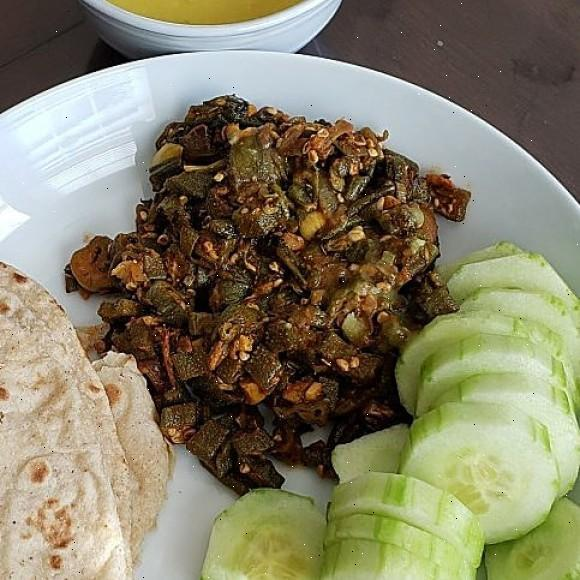bhindi: (124, 119, 395, 407)
roti phulka: (0, 285, 167, 561)
salad: (321, 378, 580, 580)
